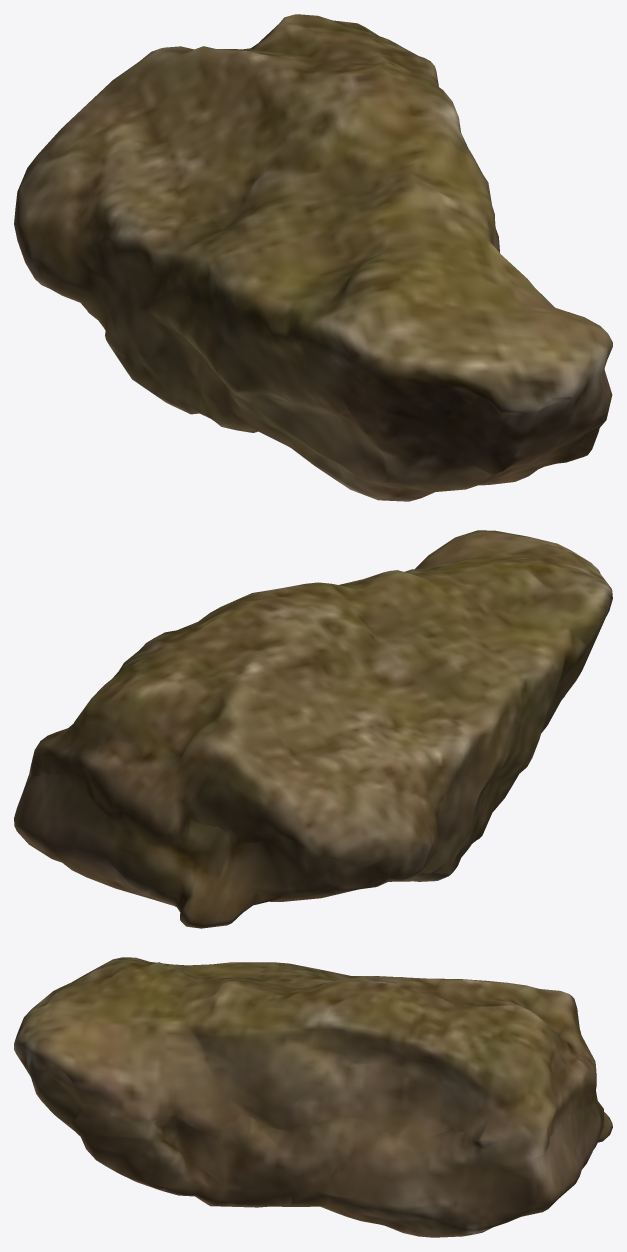
File: rock-moss-a.glb
3 renders of one model, top to bottom at view 1: azimuth 30°, elevation 25°; view 2: azimuth 150°, elevation 25°; view 3: azimuth 270°, elevation 25°, orthographic. The views are drawn at different scales.
Visible parts, largest first — view 1: rock_moss_set_01_rock05; view 2: rock_moss_set_01_rock05; view 3: rock_moss_set_01_rock05.
Boxes of the visible parts, x1,y1,x2,y2 form: rock_moss_set_01_rock05: [14, 14, 612, 501]; rock_moss_set_01_rock05: [14, 530, 612, 928]; rock_moss_set_01_rock05: [14, 957, 612, 1237].
Size of the model in its own units: 1.81 by 1.2 by 3.
1 material, 1 textured.
